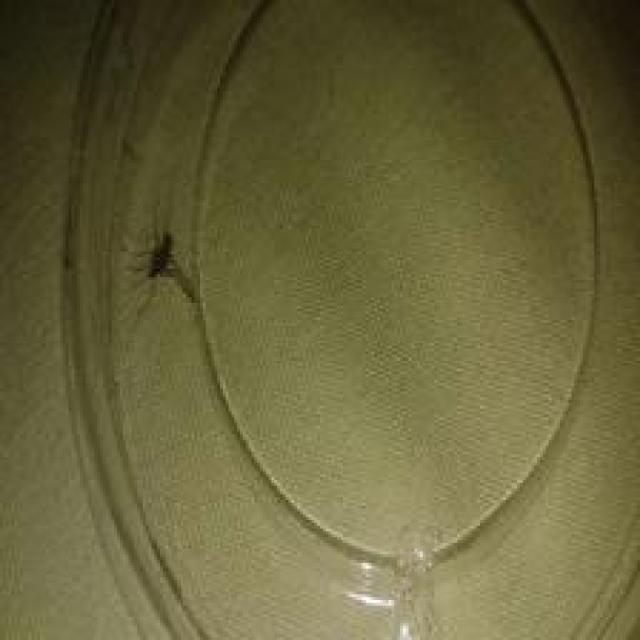Culex: (126, 230, 200, 319)
